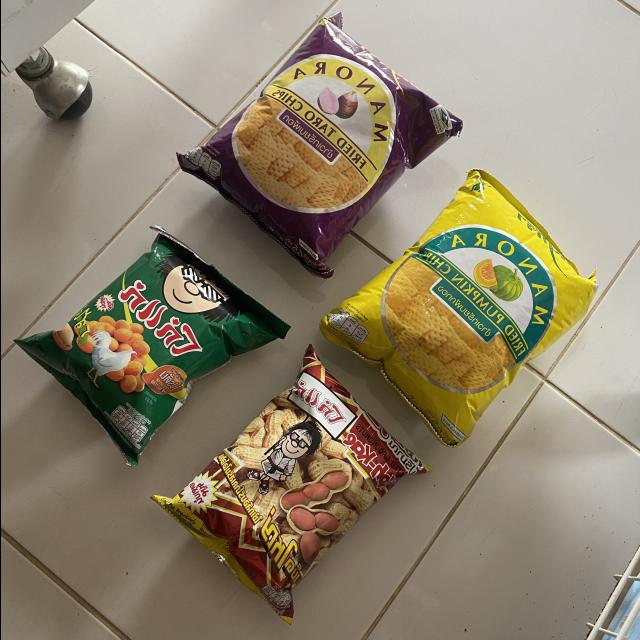plastik: (151, 345, 430, 623), (319, 170, 596, 447), (176, 13, 462, 277), (14, 226, 288, 466)
